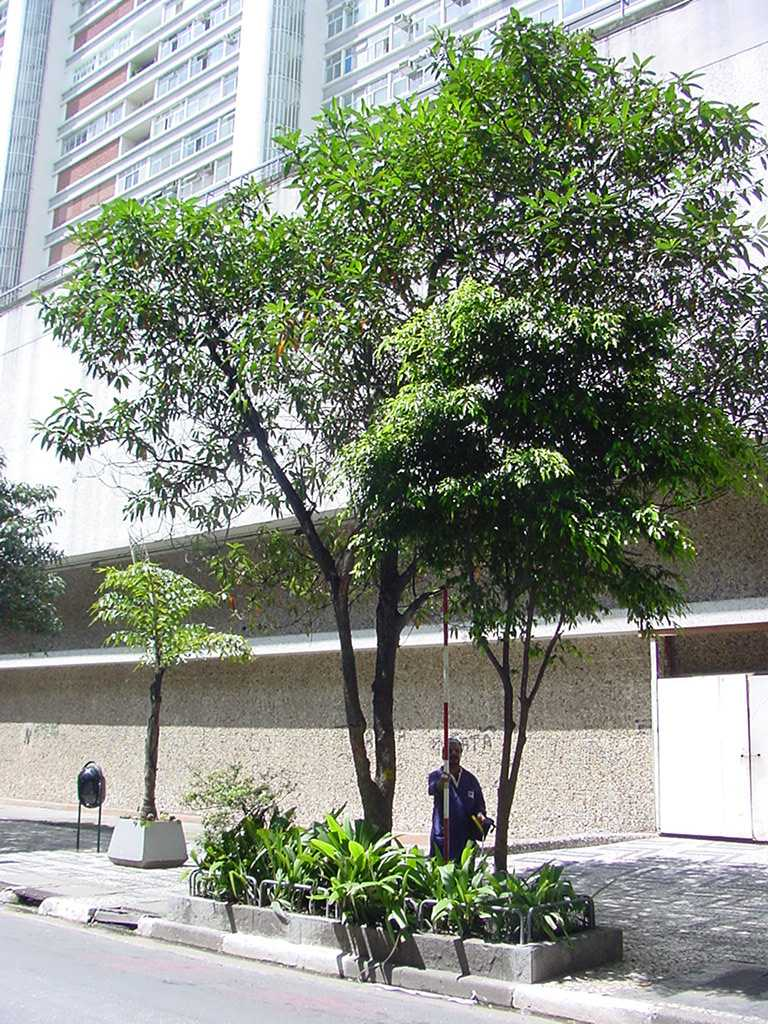crown: (260, 14, 764, 658)
stem: (473, 786, 533, 880)
stick: (429, 589, 466, 874)
tree: (254, 10, 768, 885)
